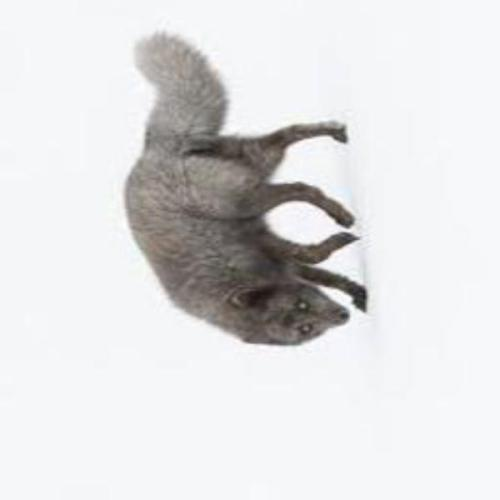arctic_fox-endangered: (122, 31, 367, 349)
